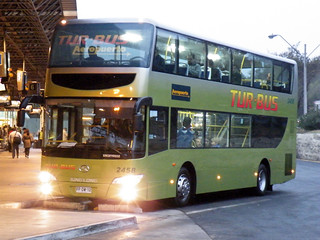bus: (39, 19, 297, 207)
